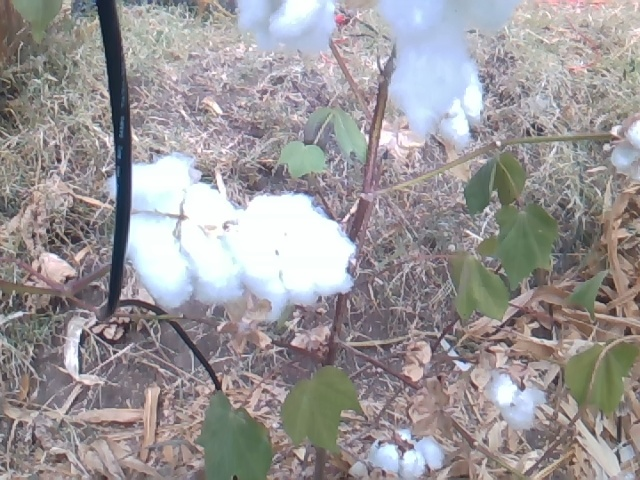cotton: (234, 1, 528, 146), (105, 149, 361, 309), (360, 423, 452, 477), (474, 369, 548, 428), (609, 106, 640, 193)
